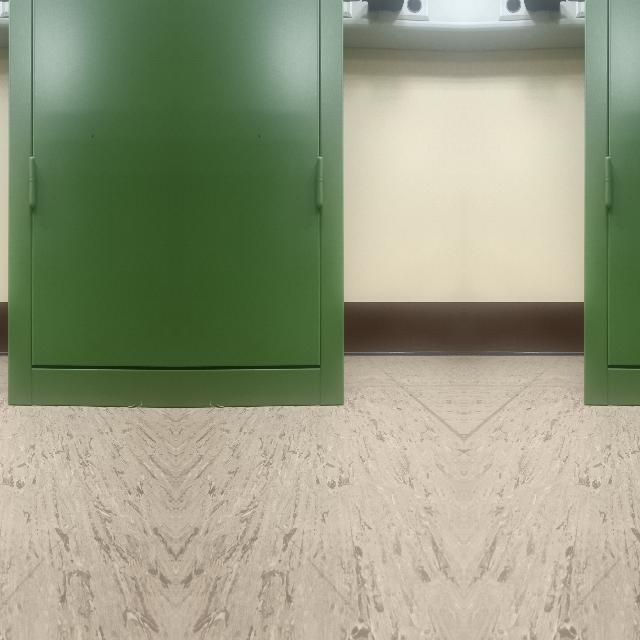obstacle: (175, 118, 345, 406), (5, 118, 175, 406), (582, 118, 640, 406)
